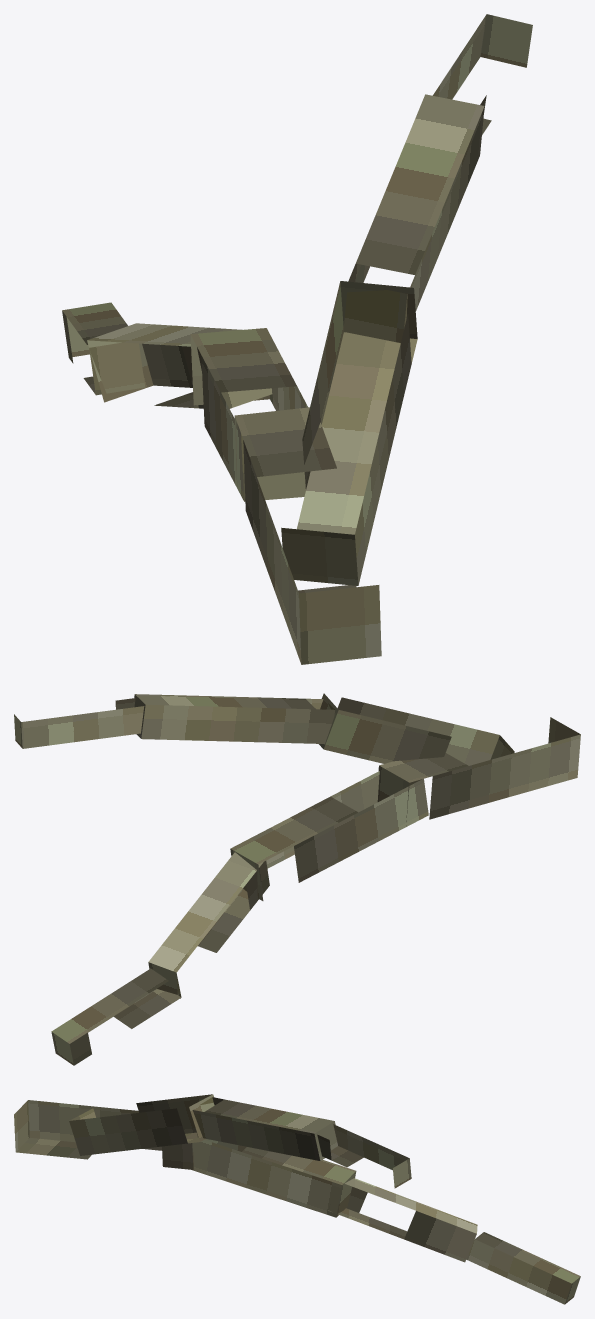
Rendered from beech_twig_branch_2.obj.
3 renders of one model, top to bottom at view 1: azimuth 30°, elevation 25°; view 2: azimuth 150°, elevation 25°; view 3: azimuth 270°, elevation 25°, orthographic. The views are drawn at different scales.
Parts seen in each view (by area): view 1: cube; view 2: cube; view 3: cube.
Boxes of the visible parts, box(x1,y1,x2,y2) form: cube: box(62, 14, 532, 664); cube: box(14, 693, 580, 1065); cube: box(14, 1094, 580, 1304).
Bounding box in the file's own units: 1.97 × 1.29 × 3.23.
